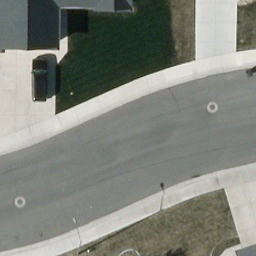car: (32, 62, 47, 102)
